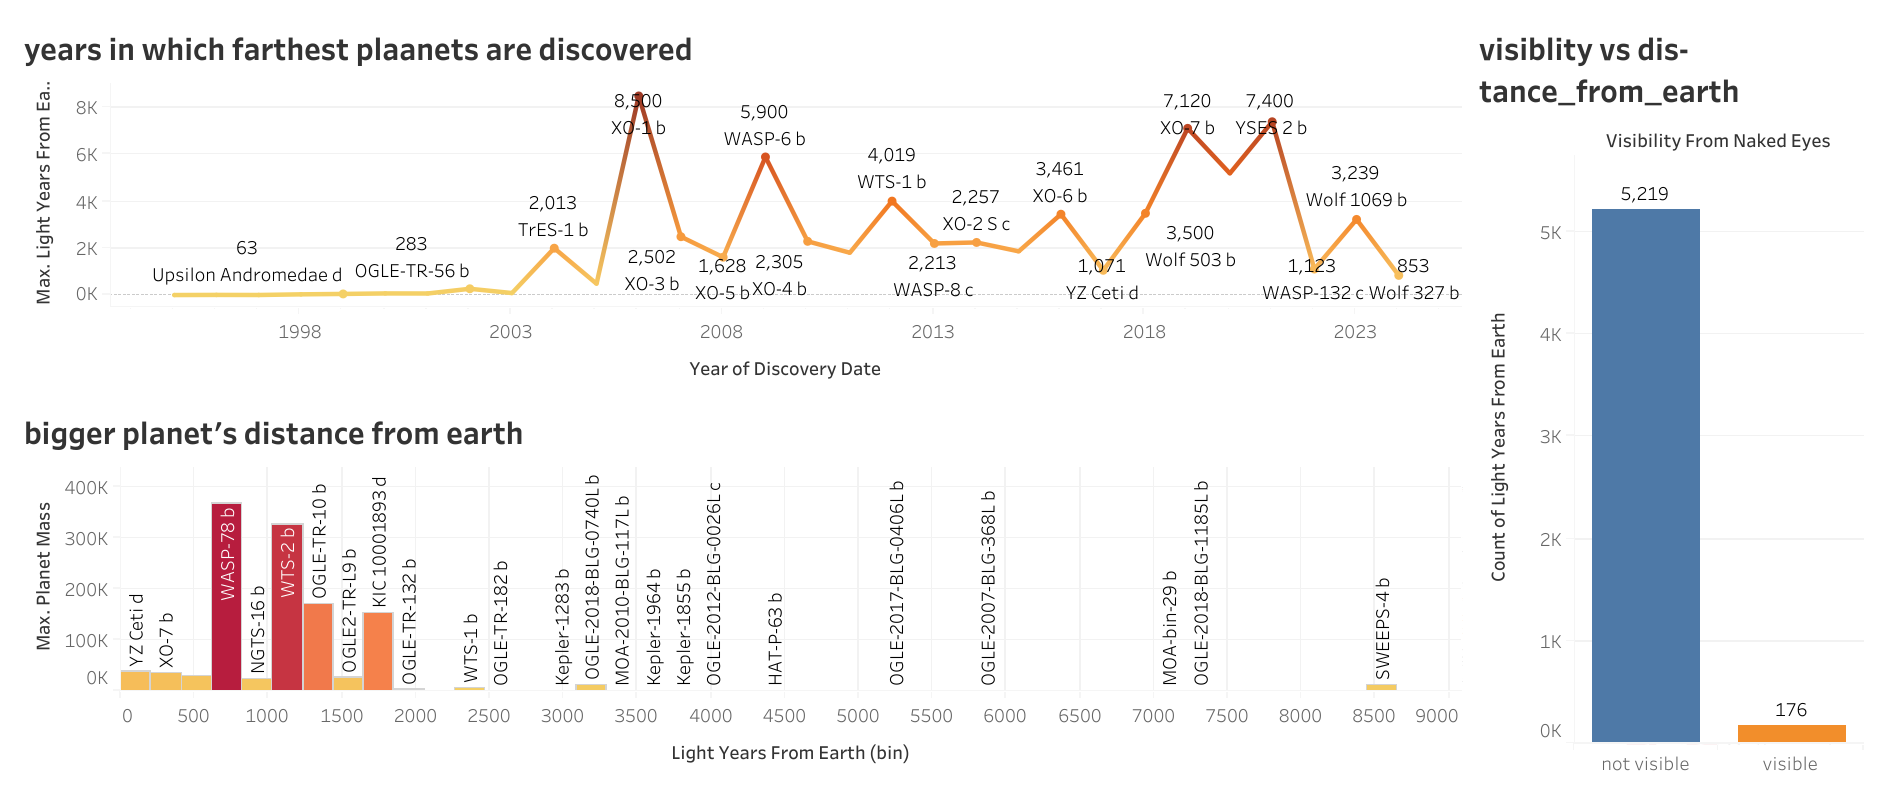

The page's visual inventory and layout, read from the dashboard file:
{"tool":"tableau","page":{"name":"Dashboard 1","canvas":[1000,1000],"units":"permille","ordinal":0},"visuals":[{"type":"worksheet","title":"Sheet 2","mark":"Automatic","rows":["Light_Years_From_Earth"],"cols":["Discovery_Date"],"box":[5,9.8,775.6,490.2]},{"type":"worksheet","title":"Sheet 1","mark":"Automatic","rows":["Light_Years_From_Earth"],"cols":["visibility_from_naked_eyes"],"box":[780.6,9.8,214.5,980.4]},{"type":"worksheet","title":"Sheet 3","mark":"Automatic","rows":["Planet_Mass"],"cols":["Light Years From Earth (bin)"],"box":[5,500,775.6,490.2]}]}

Visuals, with their boxes on the dashboard's canvas, which has no fixed pixel size, in thousandths of its width and height (x1, y1, x2, y2). These are canvas units, not pixel positions in the 1880x792 screenshot, which may show the page scaled, cropped or inside an application window:
"Sheet 2" worksheet: region(5, 10, 781, 500)
"Sheet 1" worksheet: region(781, 10, 995, 990)
"Sheet 3" worksheet: region(5, 500, 781, 990)
